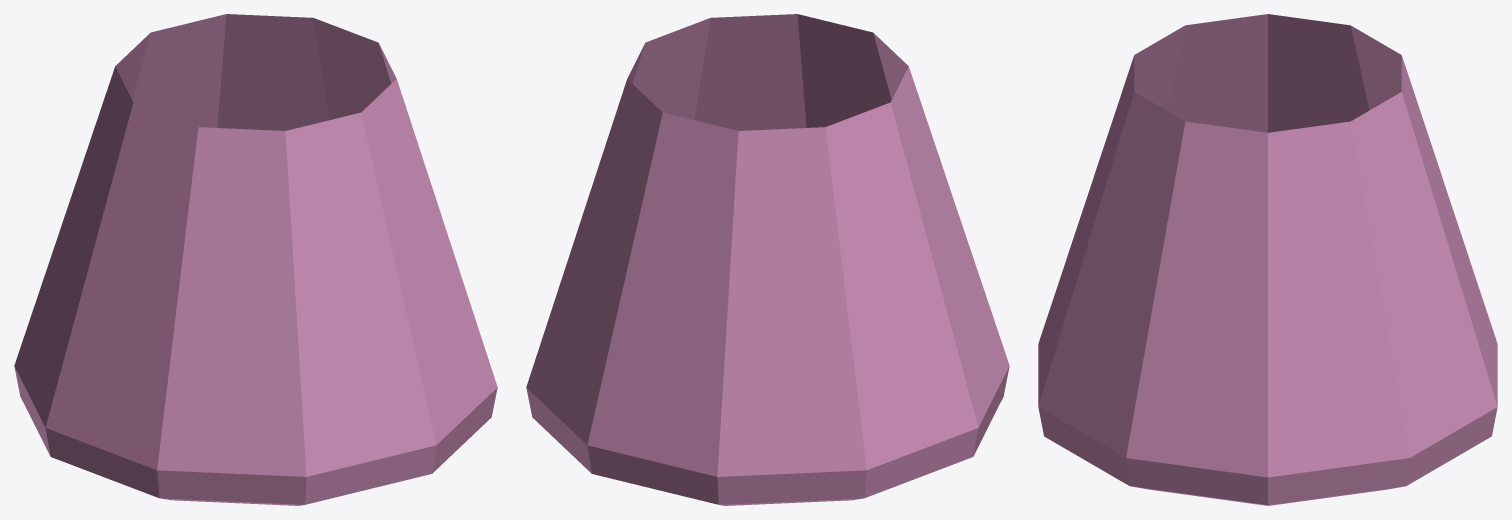
Rendered from Erlenmayerkolben_inhalt.FBX.
3 renders of one model, left to right at view 1: azimuth 30°, elevation 25°; view 2: azimuth 150°, elevation 25°; view 3: azimuth 270°, elevation 25°, orthographic.
Visible parts, largest first — view 1: f füllung; view 2: f füllung; view 3: f füllung.
Boxes of the visible parts, bbox=[...] form: f füllung: bbox=[14, 14, 497, 505]; f füllung: bbox=[526, 14, 1009, 505]; f füllung: bbox=[1038, 14, 1497, 505].
Bounding box in the file's own units: 40.46 × 31.98 × 38.48.
